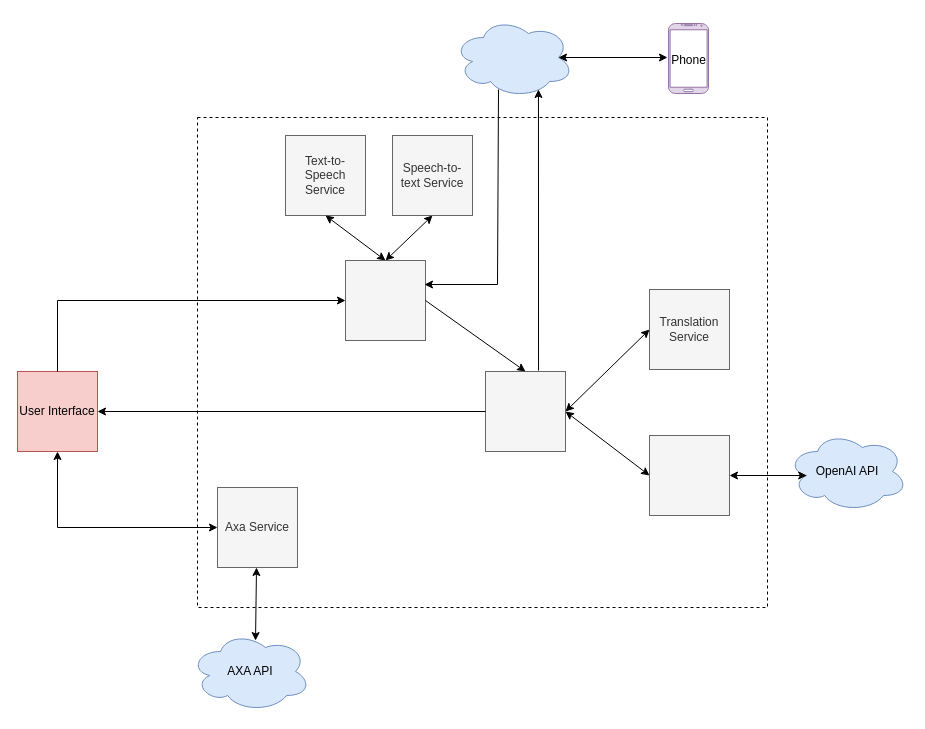
Some shapes in this 925 by 729 pixel diagram are drawn without their labels. The centre of each missing label's shape, as x and y in pixels:
"Chat Service" belongs at point 525,411.
"Model Service" belongs at point 689,475.
"Prompt Service" belongs at point 385,300.
"Telegram API" belongs at point 513,57.
